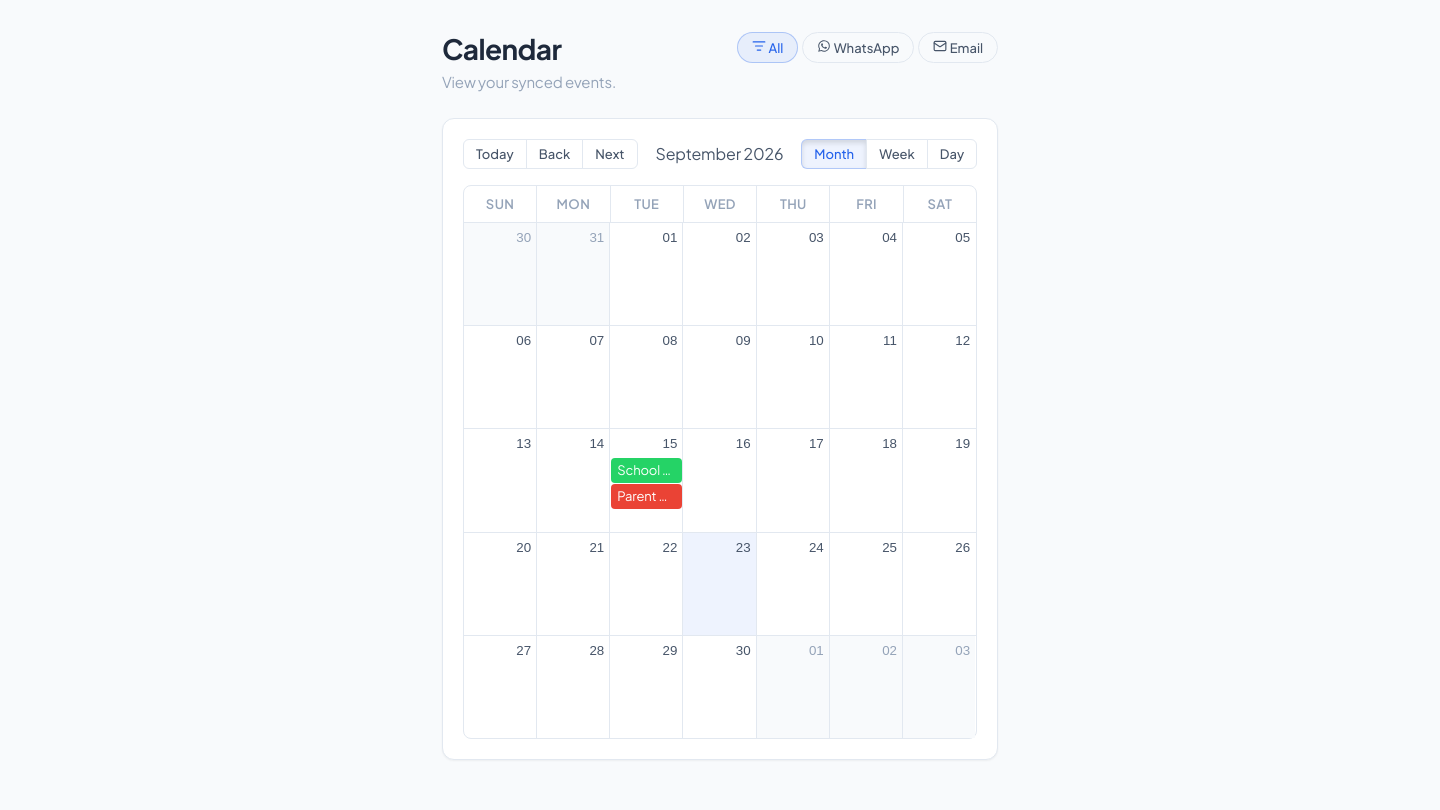
Test: CalendarPage › closes modal when close button is clicked
The width and height of the screenshot is (1440, 810).
Expected: the heading "Calendar" is shown, [442,31,561,66]
Click the element with class "rbc-event" showing "School Trip" at (647, 471), box [611,458,682,483]
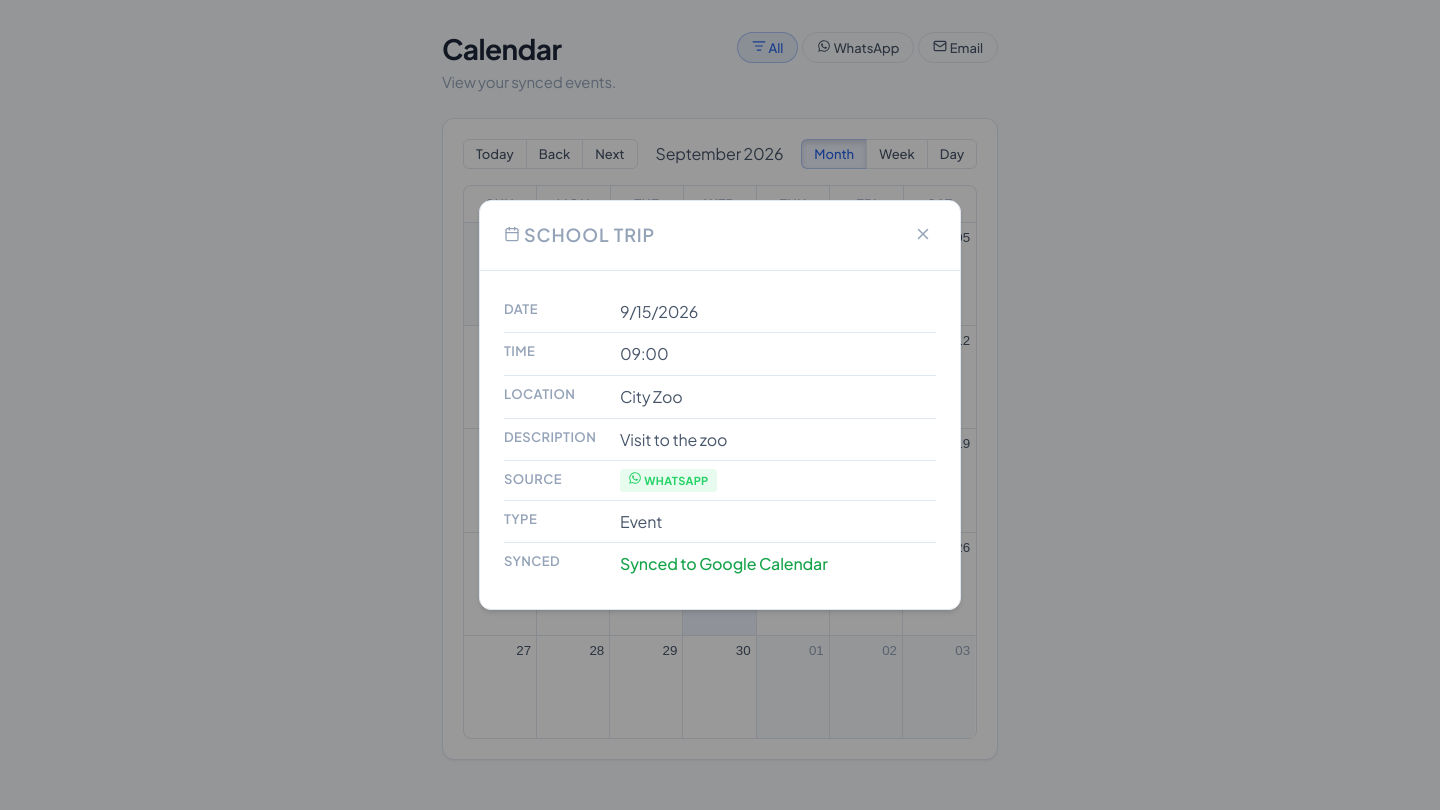
Expected: the button named "Close" is shown
Click the button named "Close" at (923, 235), box [910,223,936,247]
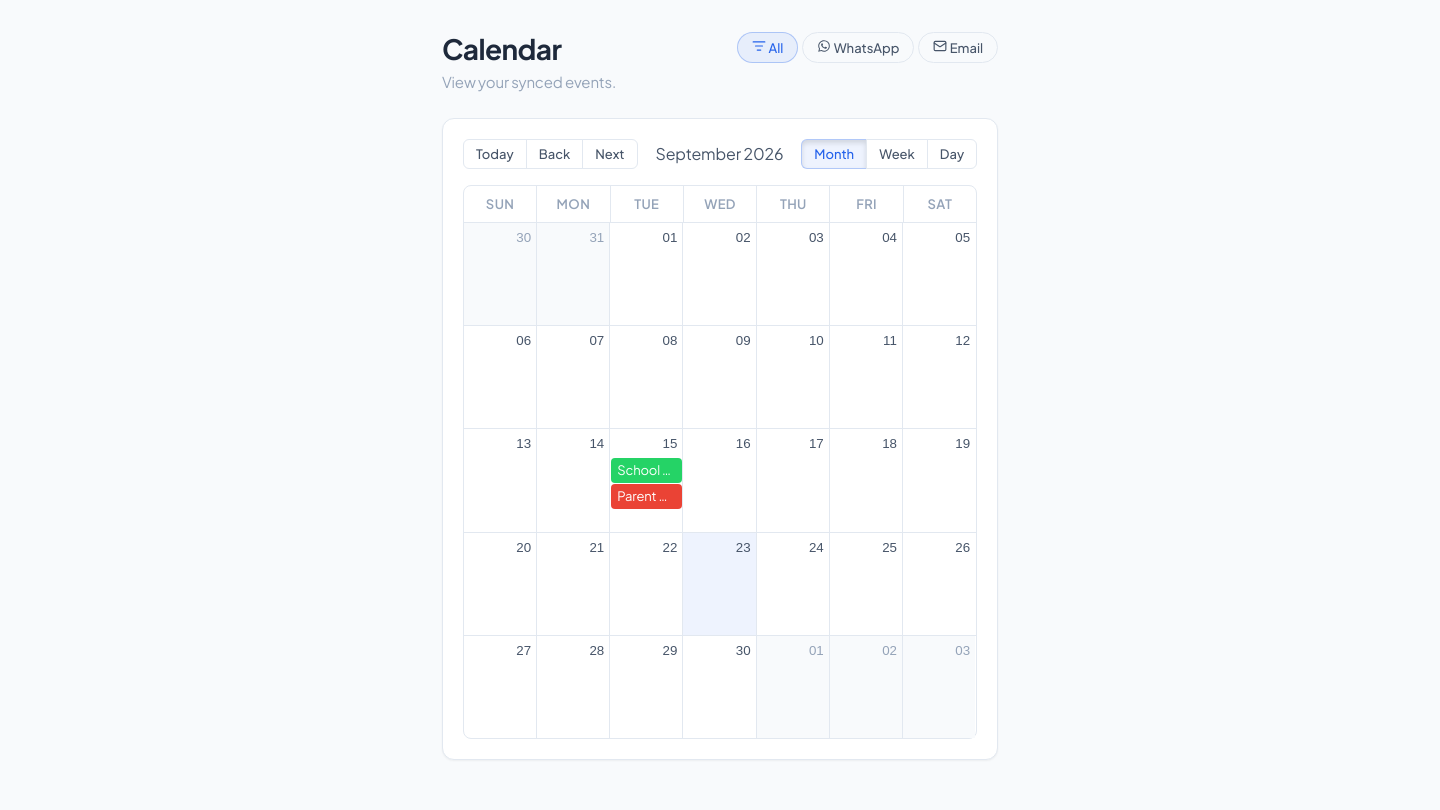
Expected: the text "City Zoo" is gone
